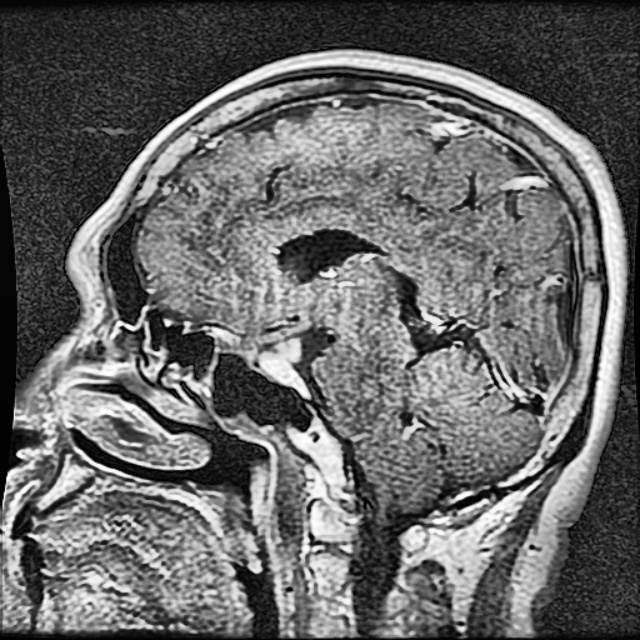Pituitary: (263, 337, 300, 380)
